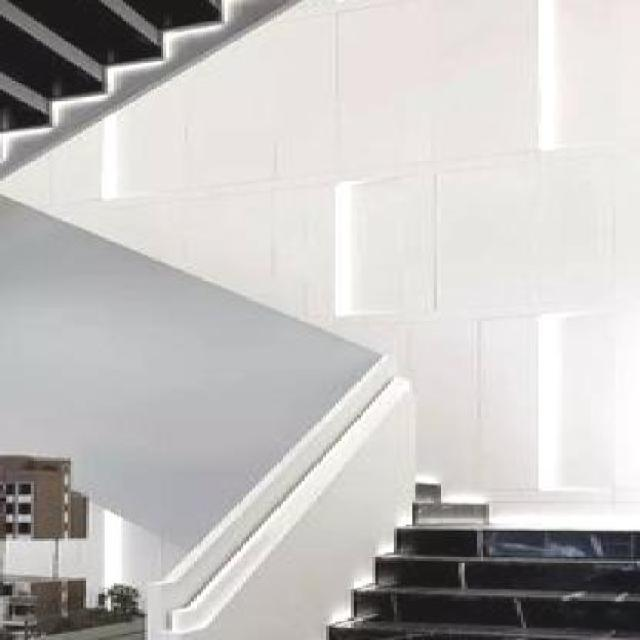stair: (126, 393, 637, 638)
